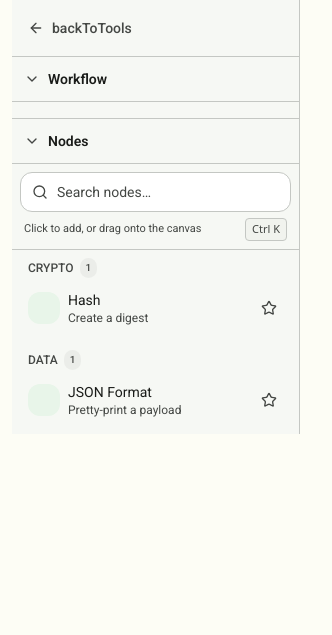
Test: NodePalette › persists favorites and records recently used nodes
Click the button named "Add node to favorites: Hash": coordinates (269, 308) [247,282,291,334]
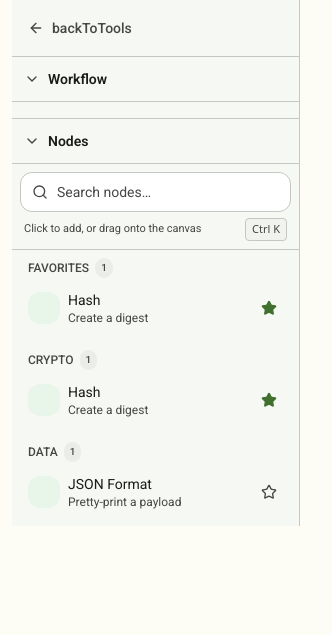
Expected: the heading "Favorites 1" is shown, [28,258,113,278]
Click the button with aria-label "Add node: Hash": coordinates (134, 308) [20,282,247,334]
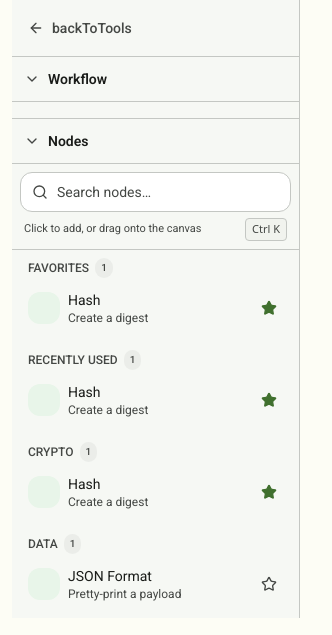
Expected: the heading "Recently used 1" is shown, [28,350,141,370]
